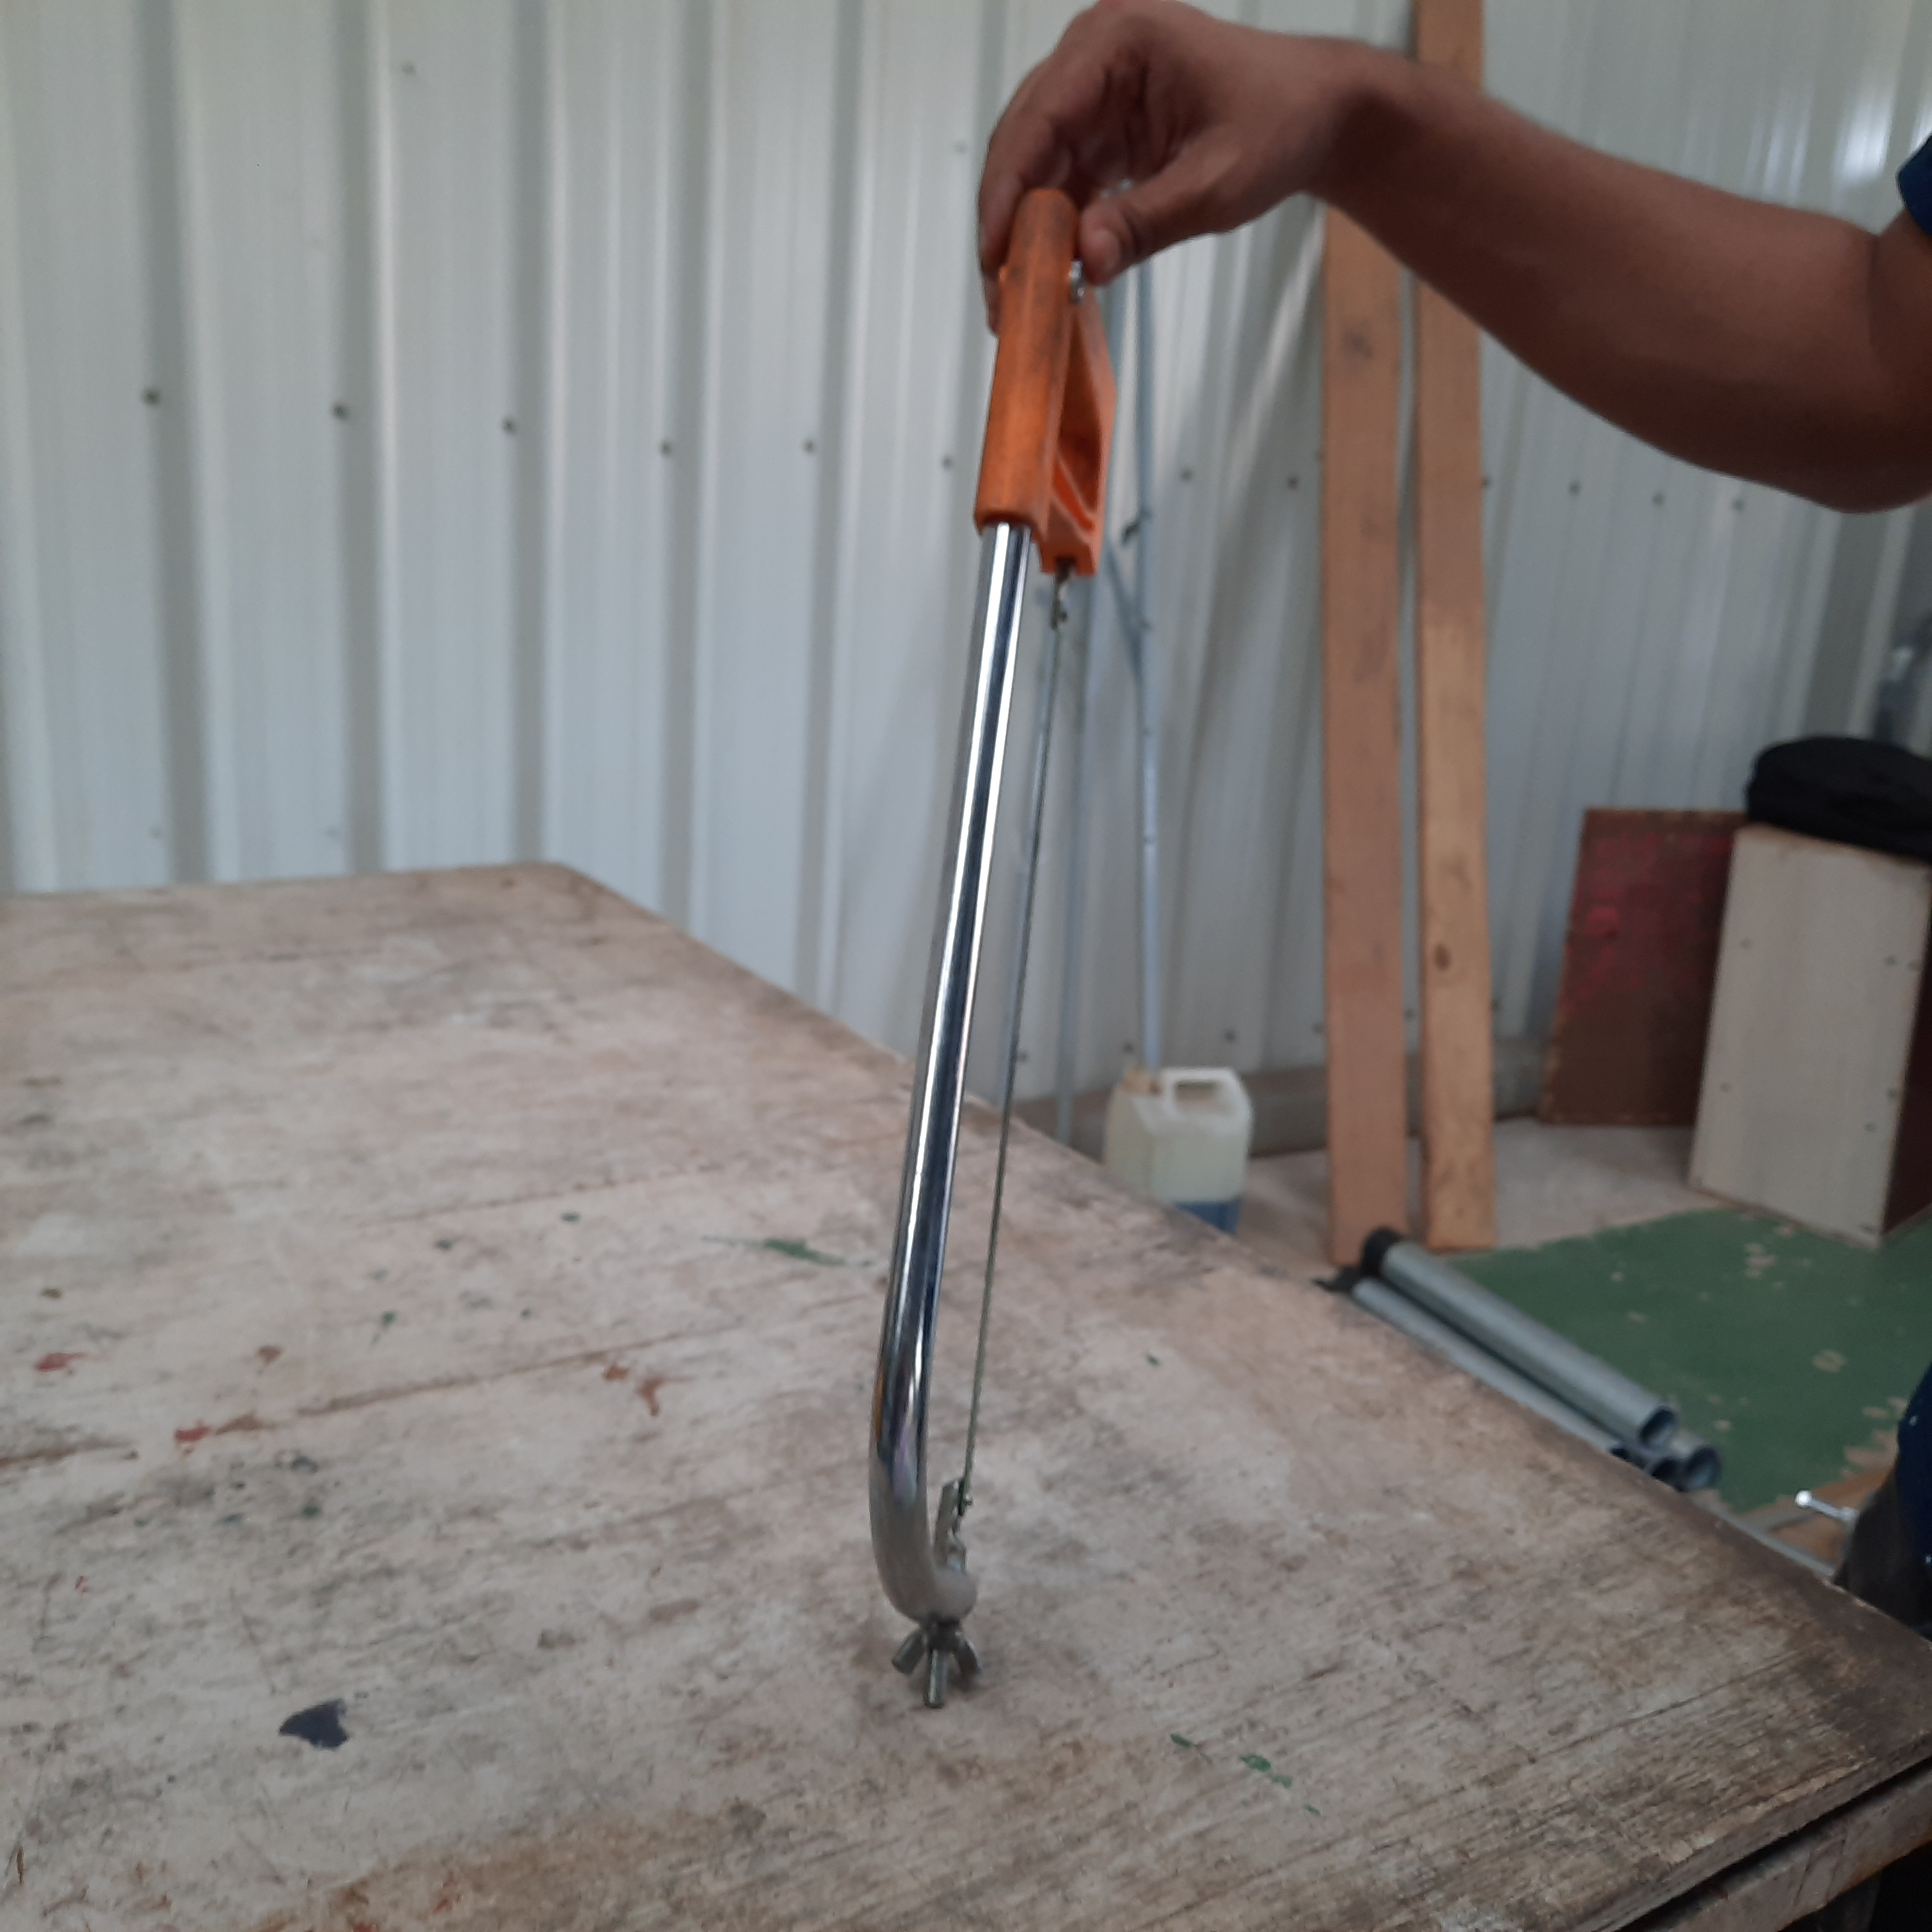Hexaframe: (814, 170, 1169, 1753)
